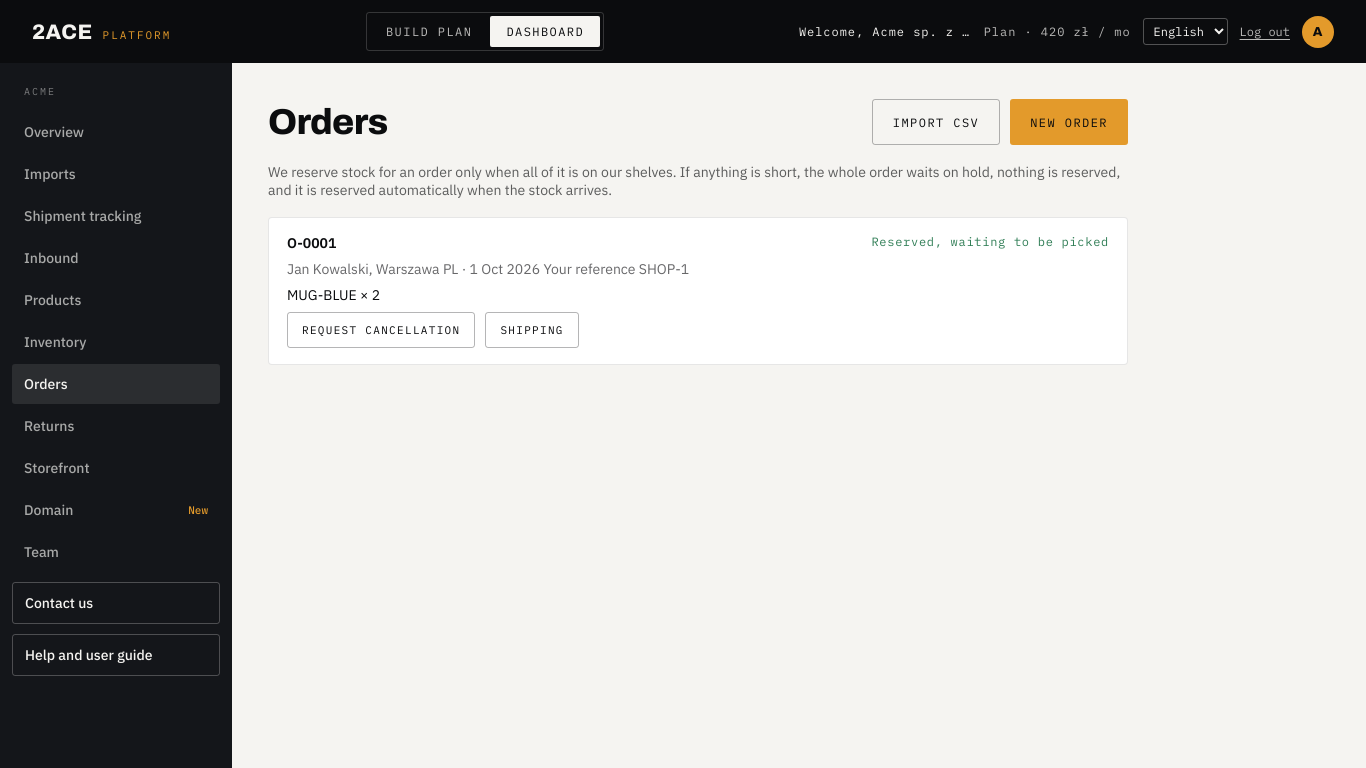
it: orders › cancelling asks first, then sends a cancellation request
The image size is (1366, 768).
Click the button "Request cancellation". click: (381, 330)
box: 287,312 -> 475,348
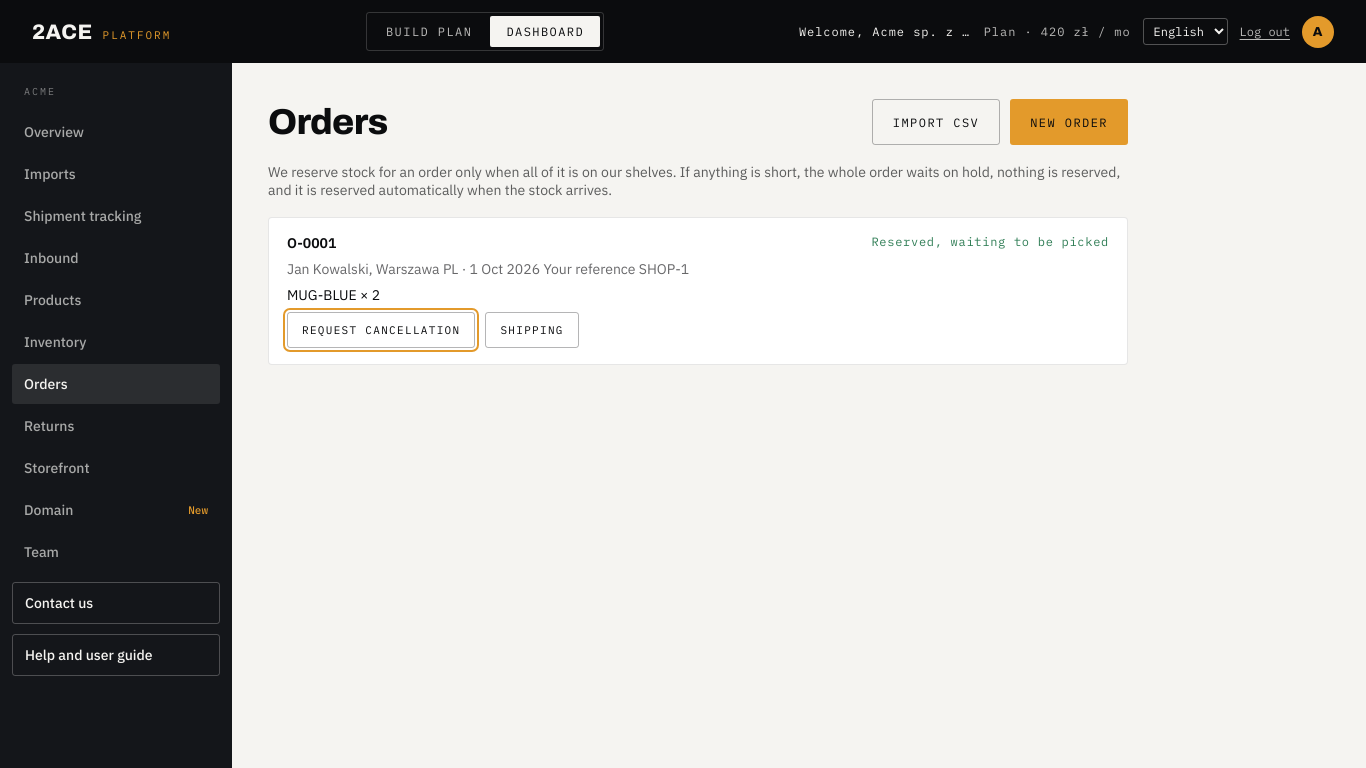
Click the button "Request cancellation". click: (381, 330)
box: 287,312 -> 475,348
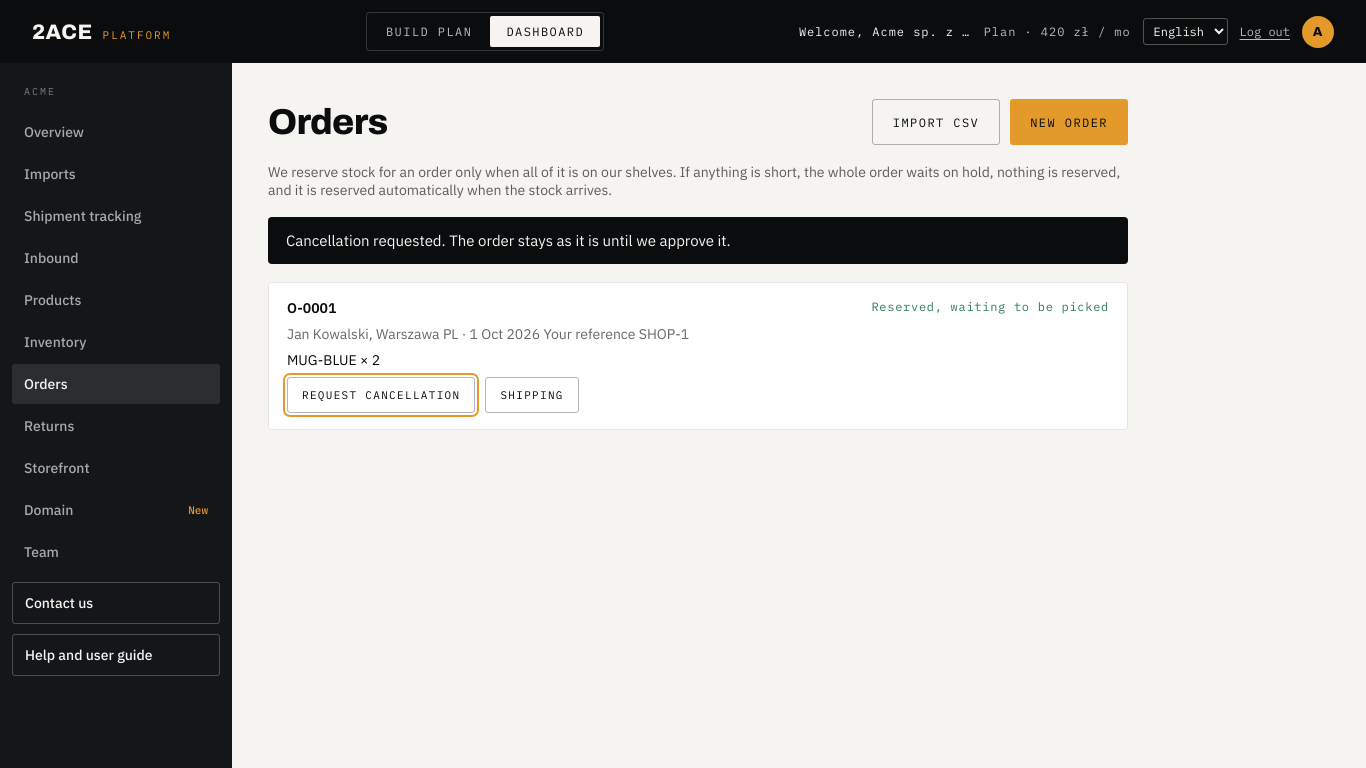
Expected: the text "Cancellation requested." is shown, 286,231 -> 731,250
